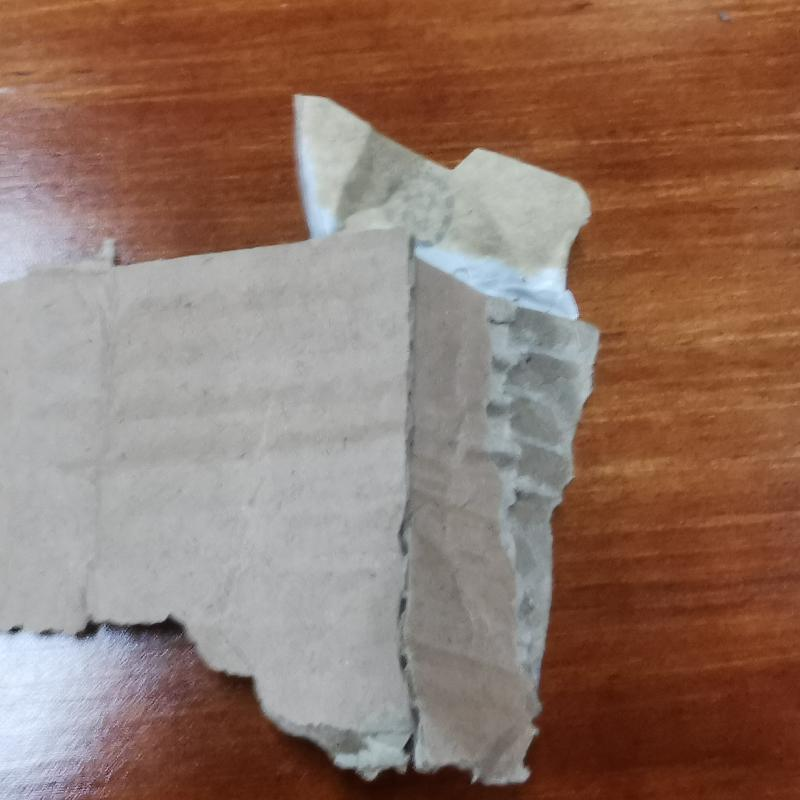boxes: (13, 97, 603, 800)
